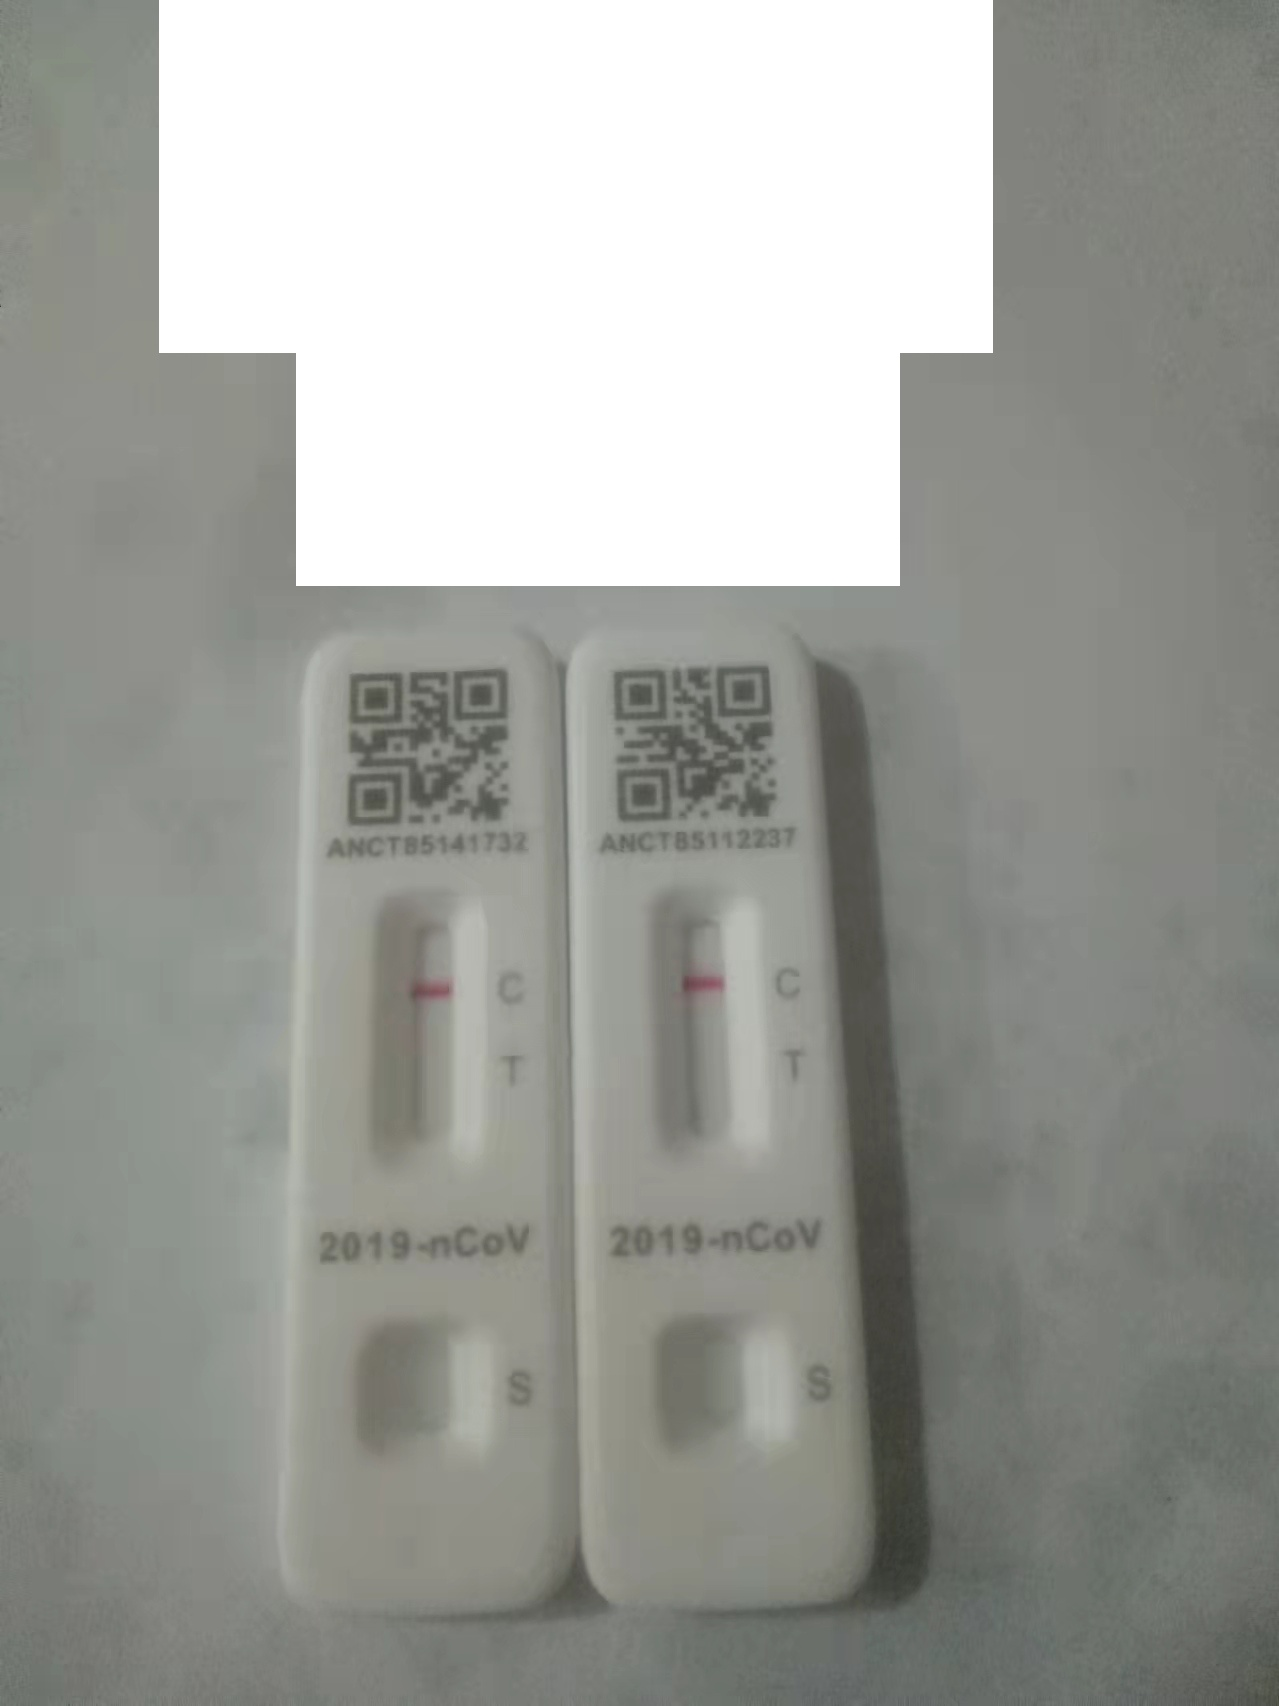negative: (648, 897, 763, 1167), (369, 895, 476, 1167)
